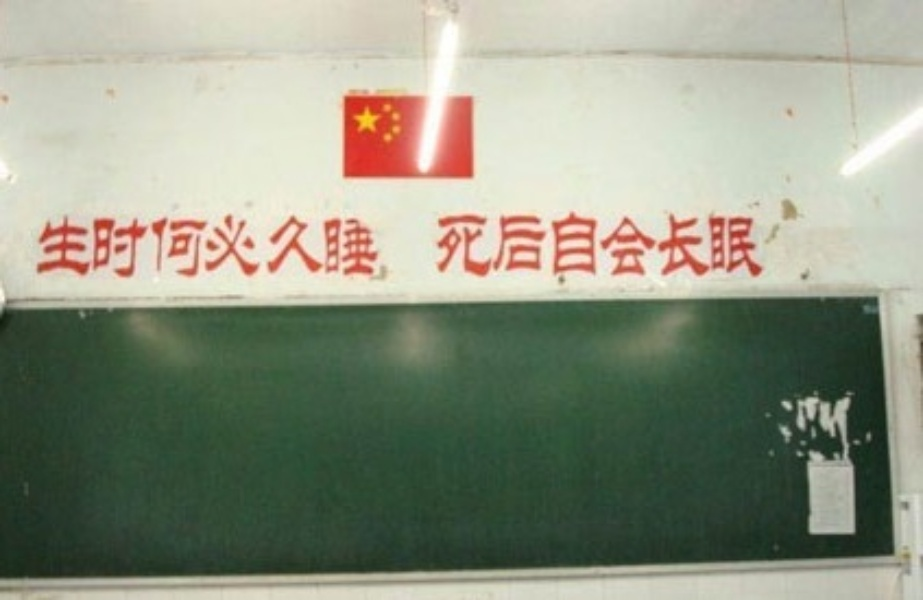text: (433, 212, 448, 280), (449, 212, 464, 280), (465, 212, 480, 280), (481, 212, 496, 280), (497, 212, 512, 280), (513, 212, 528, 280), (529, 212, 544, 280), (545, 212, 560, 280), (561, 212, 576, 280), (577, 212, 592, 280), (593, 212, 608, 280), (609, 212, 624, 280), (625, 212, 640, 280), (641, 212, 656, 280), (657, 212, 672, 280), (673, 212, 688, 280), (689, 212, 704, 280), (705, 212, 720, 280), (721, 212, 736, 280), (737, 212, 752, 280), (49, 214, 64, 278), (65, 214, 80, 278), (81, 214, 96, 278), (97, 214, 112, 278), (113, 214, 128, 278), (129, 214, 144, 278), (145, 214, 160, 278), (161, 214, 176, 278), (177, 214, 192, 278), (193, 214, 208, 278), (209, 214, 224, 278), (225, 214, 240, 278), (241, 214, 256, 278), (257, 214, 272, 278), (273, 214, 288, 278), (289, 214, 304, 278), (305, 214, 320, 278), (321, 214, 336, 278), (337, 214, 352, 278), (353, 214, 368, 278), (369, 214, 380, 278), (38, 214, 48, 278), (753, 212, 762, 280)
